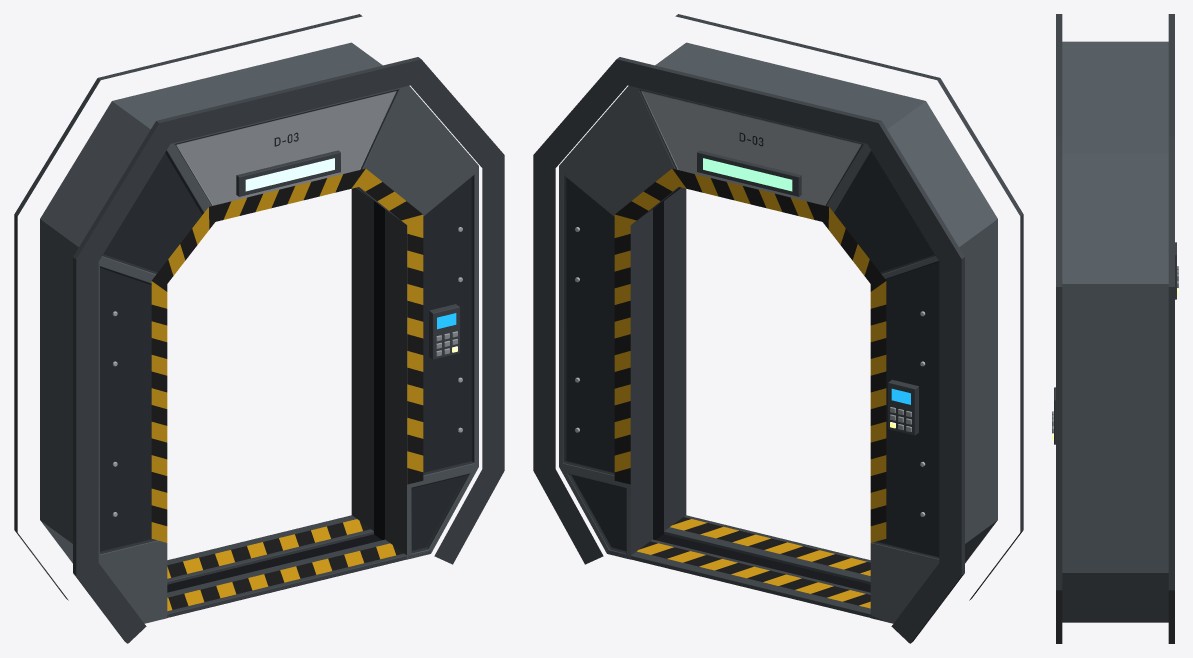
File: door_frame.glb
3 renders of one model, left to right at view 1: azimuth 30°, elevation 25°; view 2: azimuth 150°, elevation 25°; view 3: azimuth 270°, elevation 25°, orthographic. The views are drawn at different scales.
Parts seen in each view (by area): view 1: door_frame_body, door_frame_decal, door_frame_detail; view 2: door_frame_body, door_frame_decal, door_frame_detail; view 3: door_frame_body, door_frame_detail.
Boxes of the visible parts, bbox=[...] form: door_frame_body: bbox=[14, 14, 504, 643]; door_frame_decal: bbox=[151, 132, 456, 610]; door_frame_detail: bbox=[112, 150, 462, 617]; door_frame_body: bbox=[533, 14, 1023, 643]; door_frame_decal: bbox=[614, 132, 910, 608]; door_frame_detail: bbox=[575, 150, 925, 620]; door_frame_body: bbox=[1056, 14, 1174, 643]; door_frame_detail: bbox=[1052, 242, 1178, 444].
Size of the model in its own units: 2.68 by 3.07 by 0.716.
